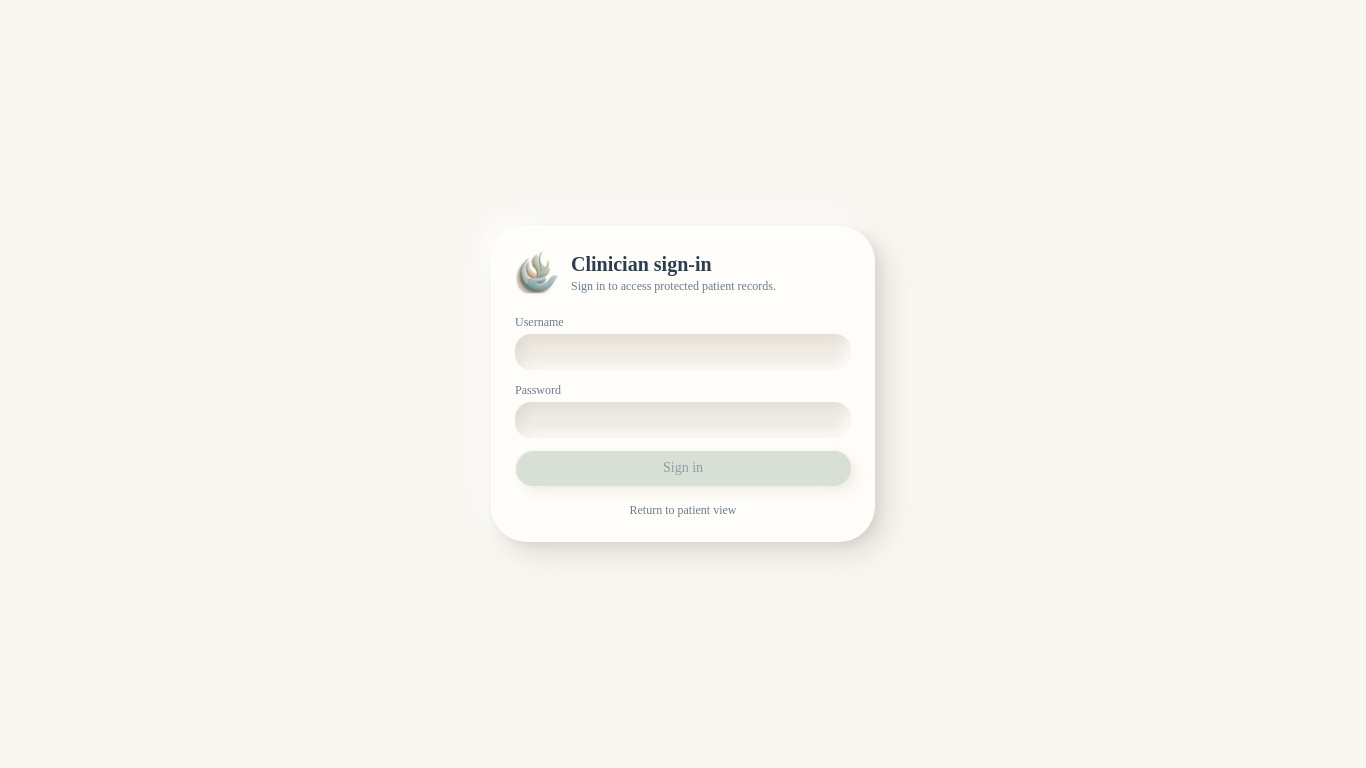
Test: doctor route authentication › signs in without persisting the entered password
In the field labelled "Username": (683, 352) [515,334,851,370], type "dr-demo"
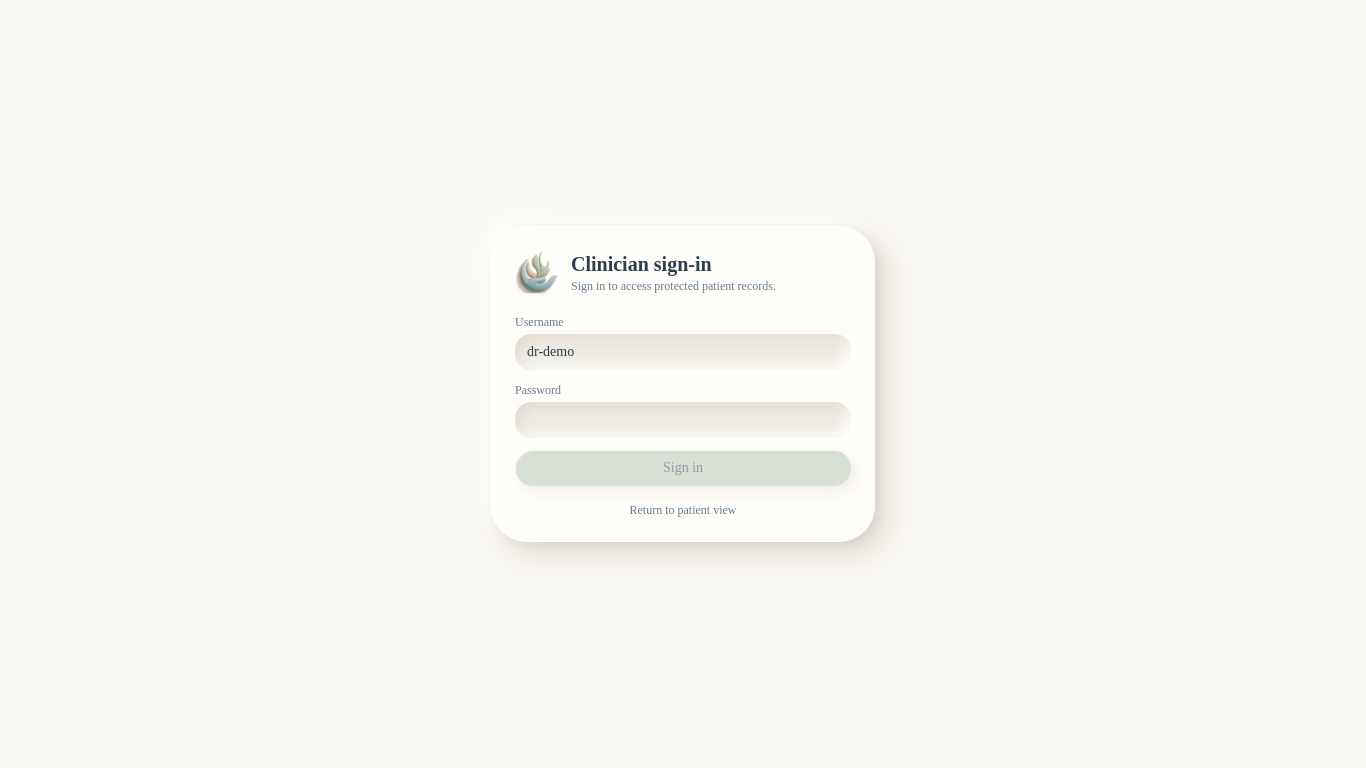
In the password field labelled "Password": (683, 420) [515,402,851,438], type "entered-secret"
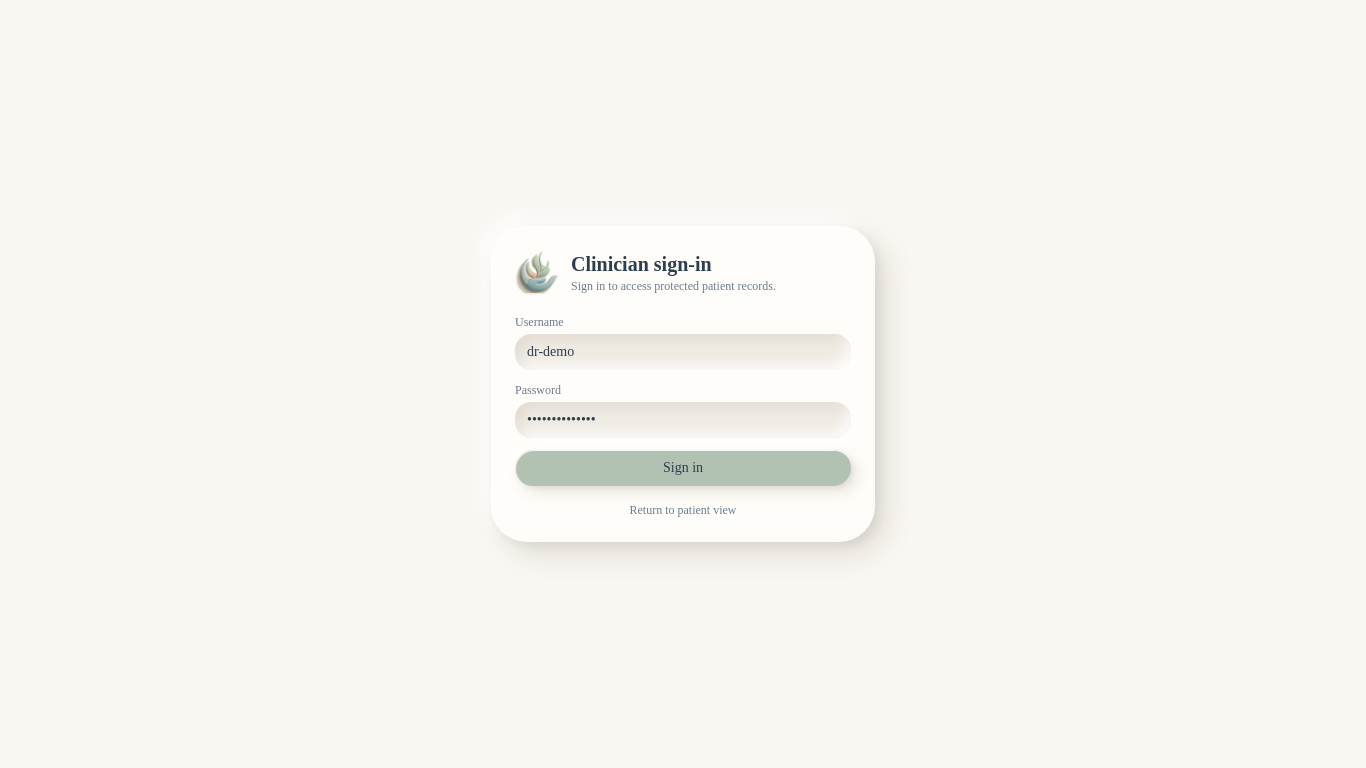
Click the button "Sign in": (683, 468) [515,450,851,486]
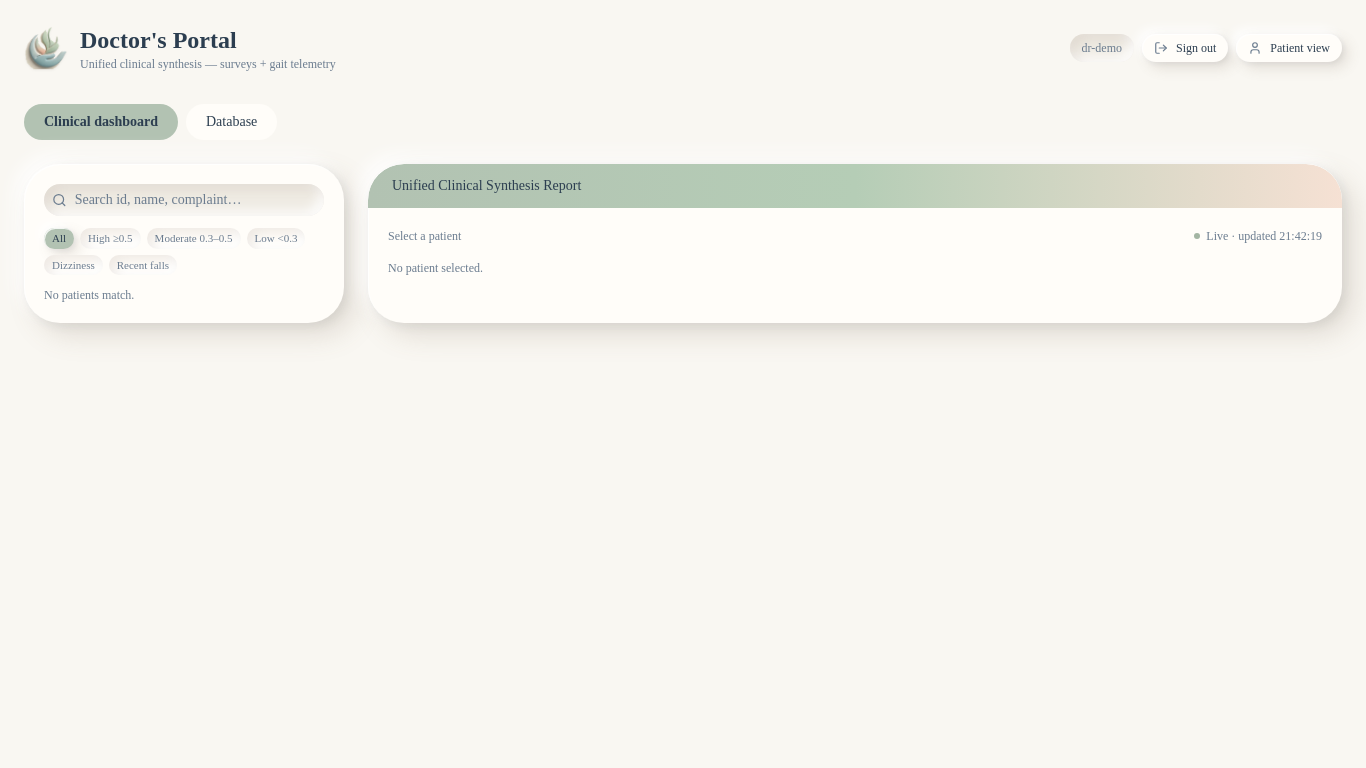
Expected: the heading "Doctor's Portal" is shown, [80,27,237,53]
